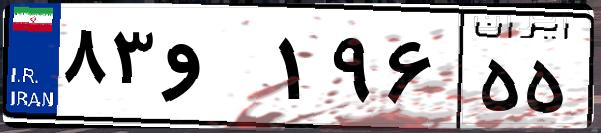1: (270, 28, 330, 110)
3: (110, 28, 158, 98)
5: (475, 38, 525, 113), (525, 38, 570, 115)
6: (385, 28, 445, 110)
8: (57, 26, 110, 100)
9: (330, 28, 385, 110)
و: (158, 20, 270, 120)
